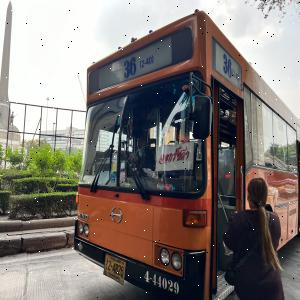BMTA-bus: (74, 10, 300, 300)
Bus Line Number: (124, 48, 155, 79), (220, 53, 241, 85)
Bus Side Number: (143, 268, 180, 296)
Destination Sign: (157, 144, 195, 169)
